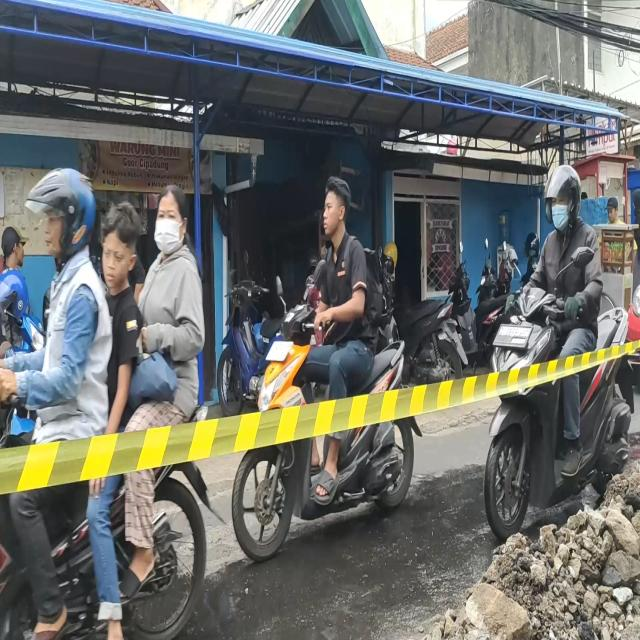helmet: (32, 163, 93, 257), (547, 168, 582, 226)
no-helmet: (104, 207, 134, 286), (154, 193, 186, 255), (323, 184, 349, 235)
